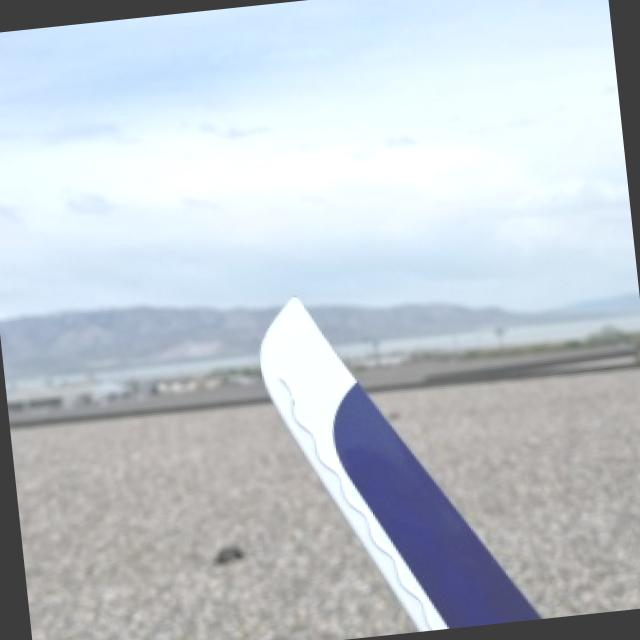healthy: (263, 297, 540, 629)
